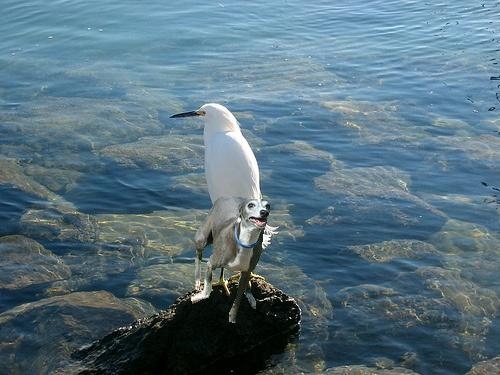tampered: (192, 196, 270, 323)
